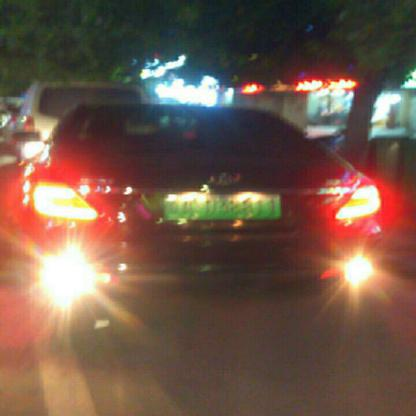lp: (165, 192, 281, 218)
